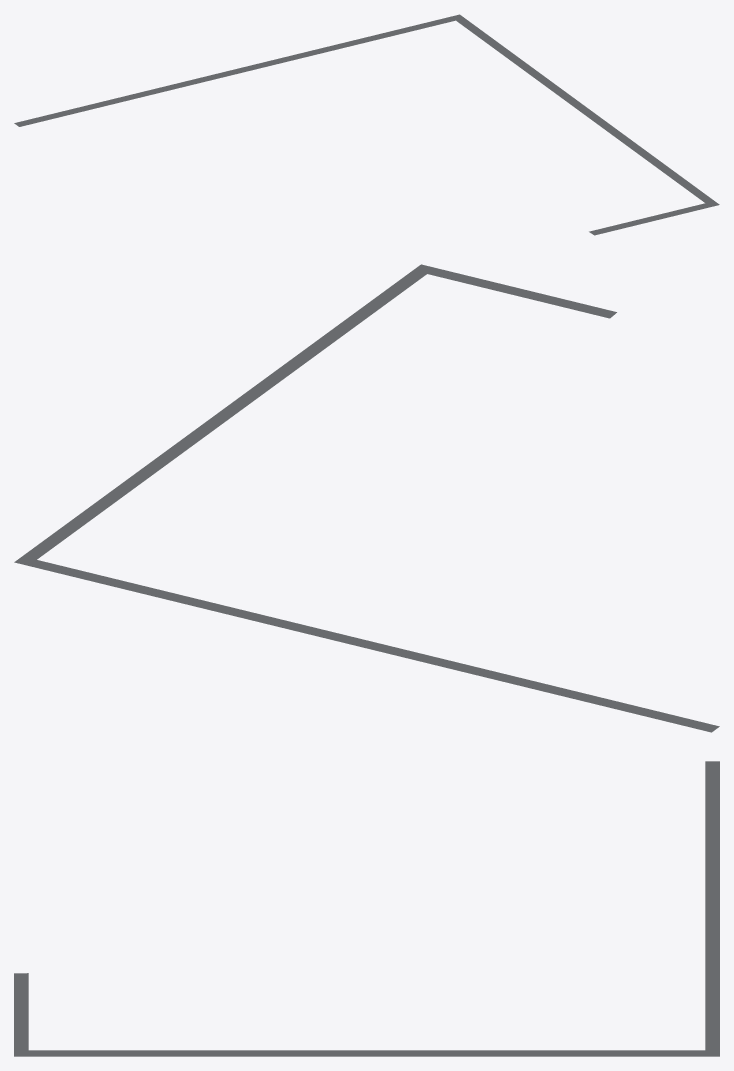
File: kd_stage_135c43_4_95_bounded_piece_0.glb
3 views of the same model, one above another, from view 1: azimuth 30°, elevation 25°; view 2: azimuth 150°, elevation 25°; view 3: azimuth 270°, elevation 25° (orthographic). The views are drawn at different scales.
Visible parts, largest first — view 1: kd_stage_135c43_4_95_bounded_piece_0; view 2: kd_stage_135c43_4_95_bounded_piece_0; view 3: kd_stage_135c43_4_95_bounded_piece_0.
Boxes of the visible parts, x1,y1,x2,y2 form: kd_stage_135c43_4_95_bounded_piece_0: [14, 14, 719, 235]; kd_stage_135c43_4_95_bounded_piece_0: [14, 264, 719, 732]; kd_stage_135c43_4_95_bounded_piece_0: [14, 761, 719, 1056].
Size of the model in its own units: 4.82 by 8.34e-07 by 4.87.
Materials: 1 (1 with a texture image).
